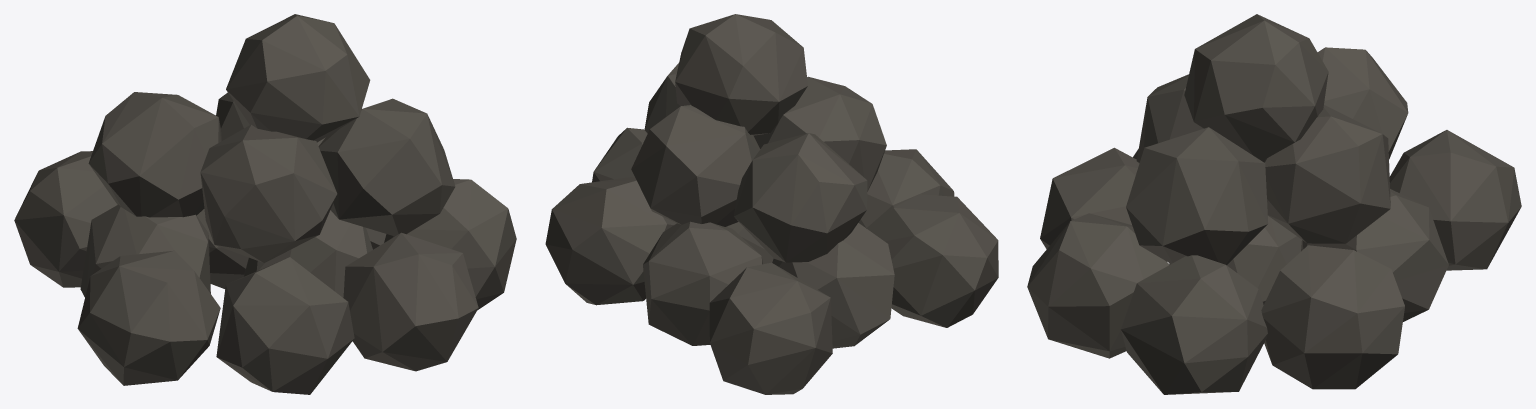
File: Cannonball_3.fbx
The picture shows the model from 3 angles, left to right: view 1: azimuth 30°, elevation 25°; view 2: azimuth 150°, elevation 25°; view 3: azimuth 270°, elevation 25°; orthographic projection. The views are drawn at different scales.
Parts seen in each view (by area): view 1: Cannonball_3; view 2: Cannonball_3; view 3: Cannonball_3.
Boxes of the visible parts, x1,y1,x2,y2 form: Cannonball_3: [14, 14, 516, 394]; Cannonball_3: [545, 14, 998, 394]; Cannonball_3: [1027, 14, 1521, 394].
Size of the model in its own units: 63.9 by 44.34 by 62.76.
